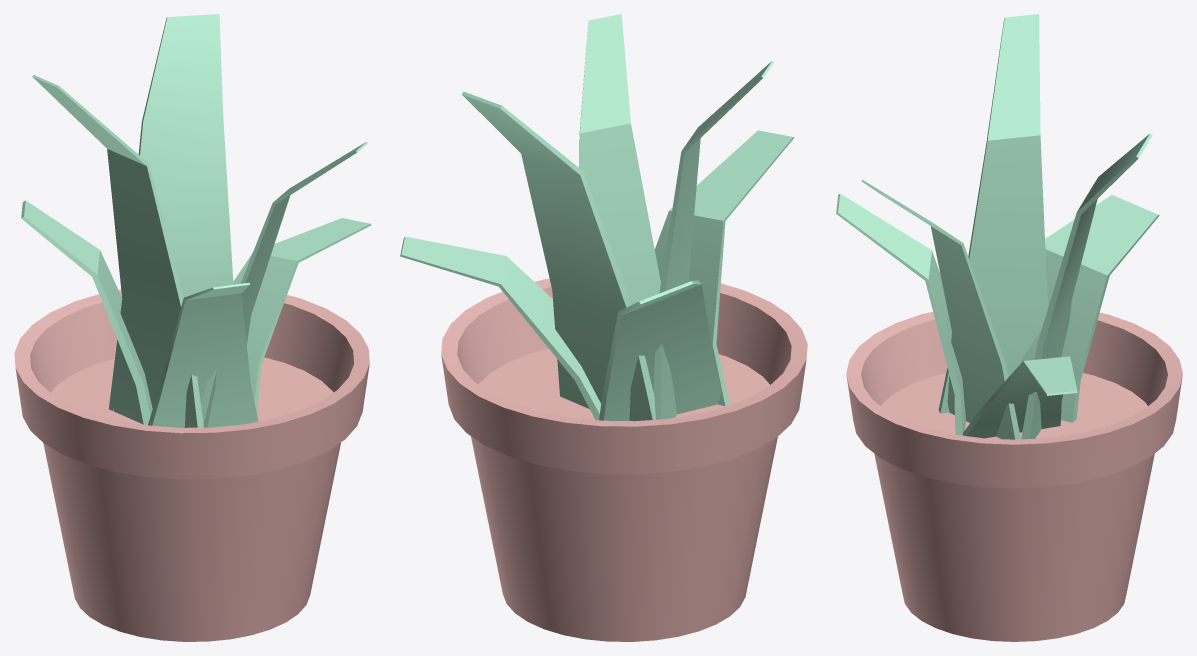
The model's file is Plant.fbx.
The picture shows the model from 3 angles, left to right: view 1: azimuth 30°, elevation 25°; view 2: azimuth 150°, elevation 25°; view 3: azimuth 270°, elevation 25°; orthographic projection. The views are drawn at different scales.
Parts seen in each view (by area): view 1: Pot, Plant; view 2: Pot, Plant; view 3: Pot, Plant.
Part boxes in pixels (x1=…): Pot: x1=14, y1=289, x2=369, y2=641; Plant: x1=21, y1=14, x2=371, y2=427; Pot: x1=441, y1=278, x2=807, y2=641; Plant: x1=400, y1=14, x2=794, y2=421; Pot: x1=846, y1=312, x2=1182, y2=641; Plant: x1=836, y1=14, x2=1159, y2=439.
Size of the model in its own units: 64.39 by 95.28 by 58.32.
